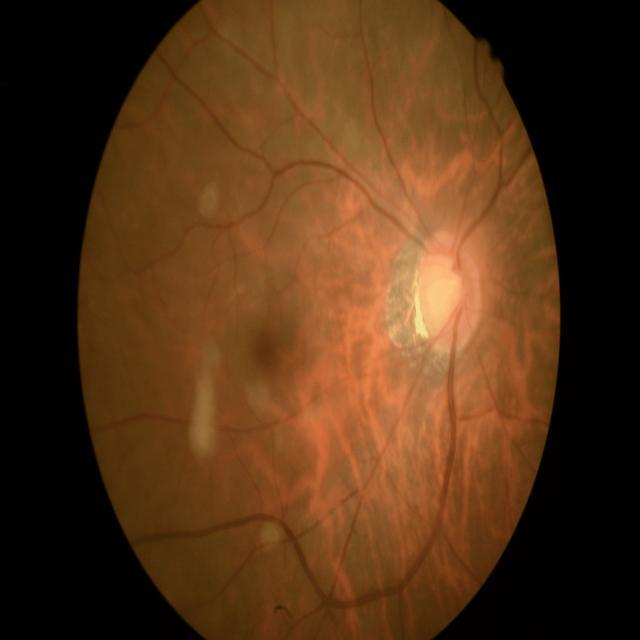cup: (424, 255, 466, 332)
disk: (415, 230, 484, 355)
